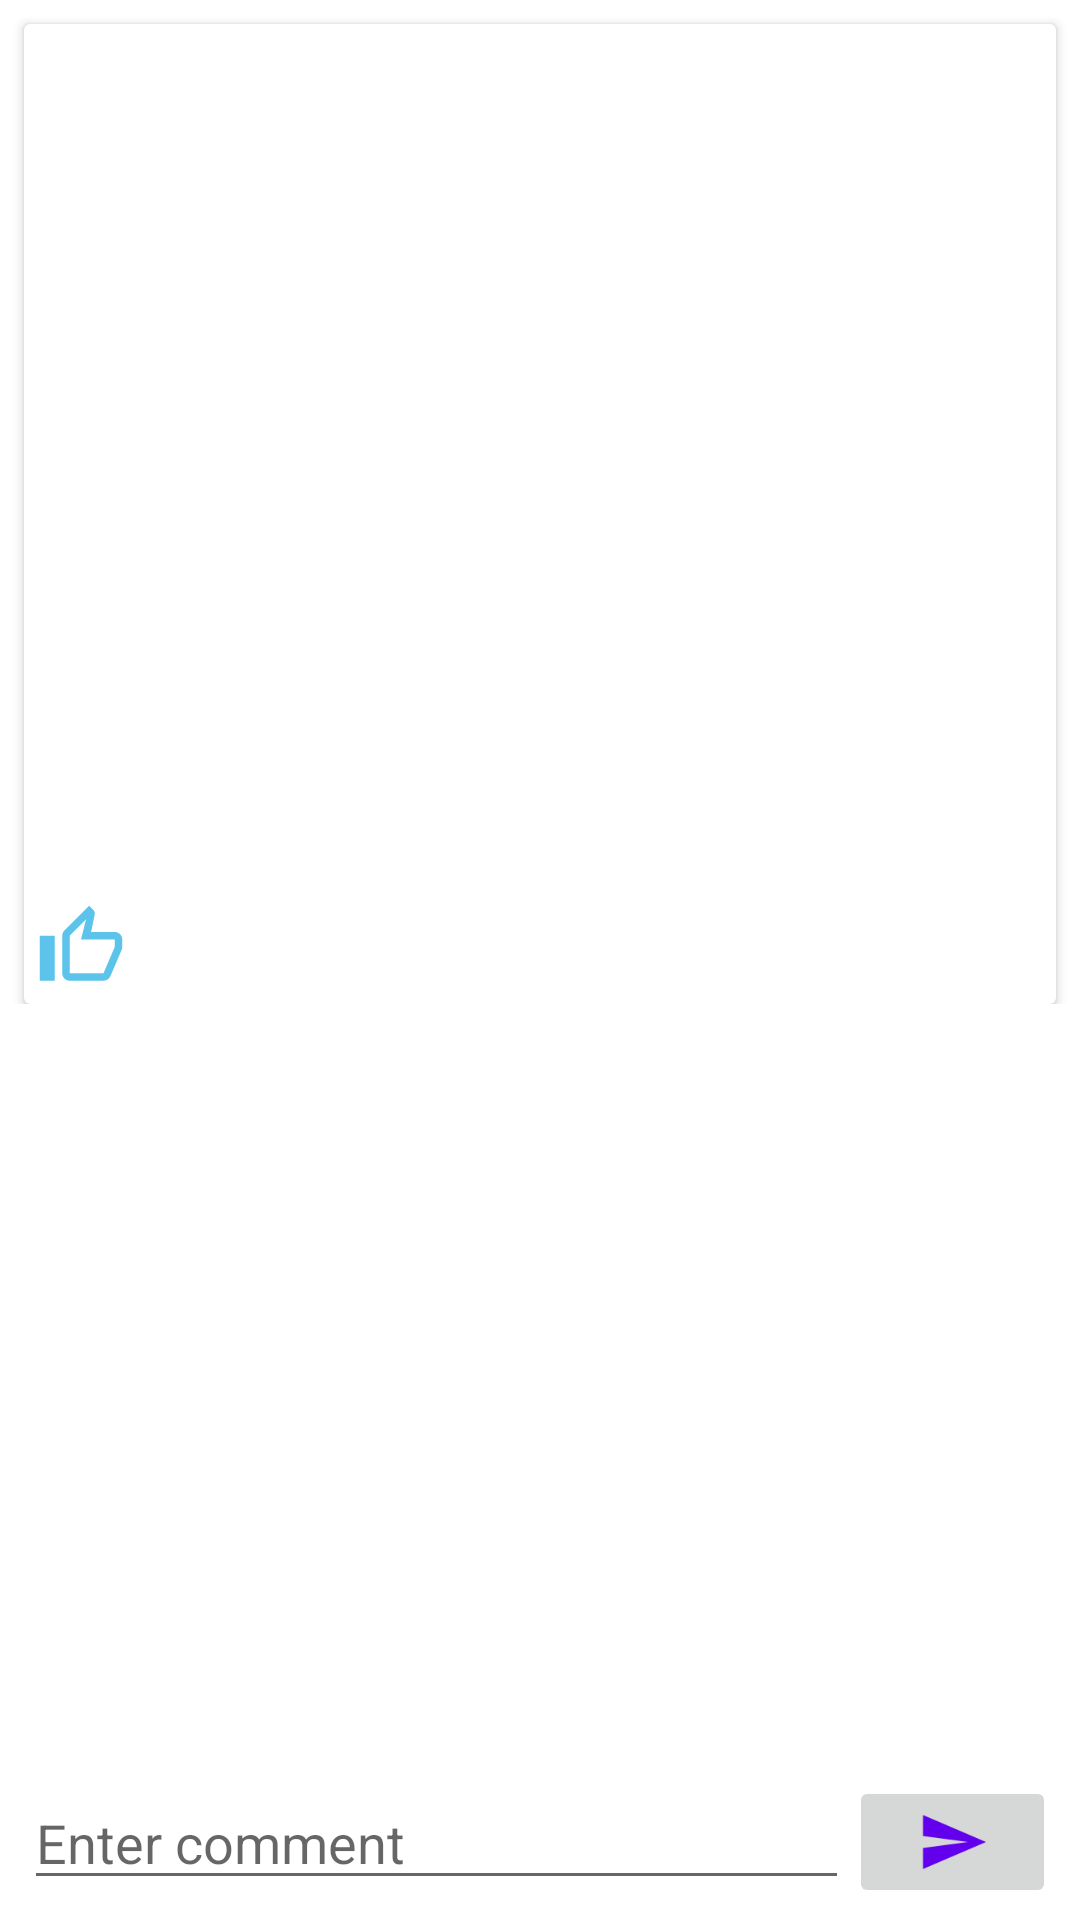

Where to tap for icons on this 1080w x 1920h app screen, as (x=x, y=y):
Plane icon: (x=952, y=1842)
Thumbs up icon: (x=81, y=943)
